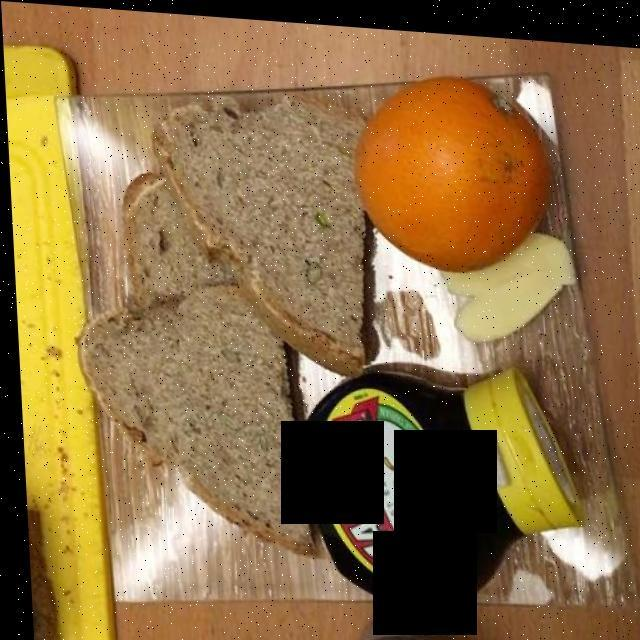bread: (68, 92, 362, 549)
butter: (445, 226, 569, 334)
orange: (353, 73, 554, 275)
yeast-spread: (291, 353, 571, 602)
